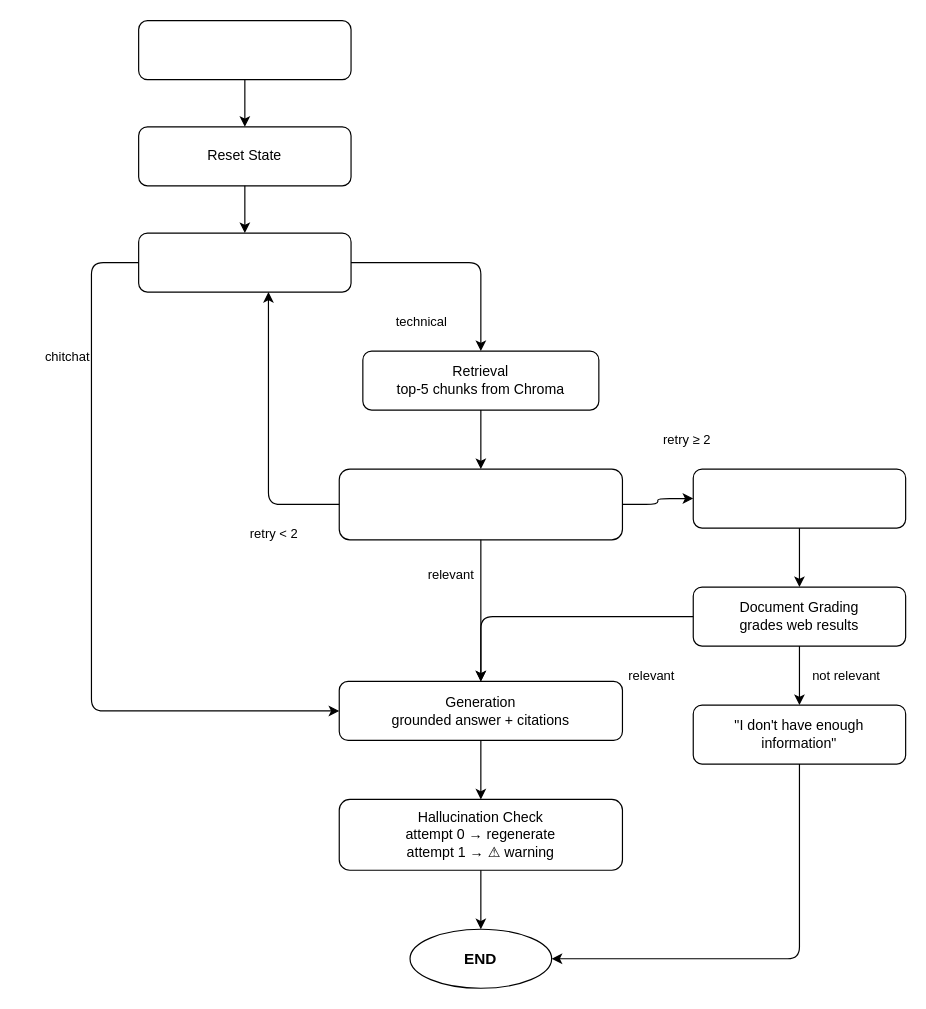
Some shapes in this 926 by 1009 pixel diagram are drawn without their labels. The box of each missing label's shape, as (x1, y1, x2, y2) in pixels:
Document Grading LLM grades each chunk GRADE: YES/NO + REASON: (338, 468, 622, 540)
Query Analysis rewrite + classify: (137, 232, 351, 292)
User Question: (137, 19, 351, 80)
Web Search Serper API: (692, 468, 906, 528)
